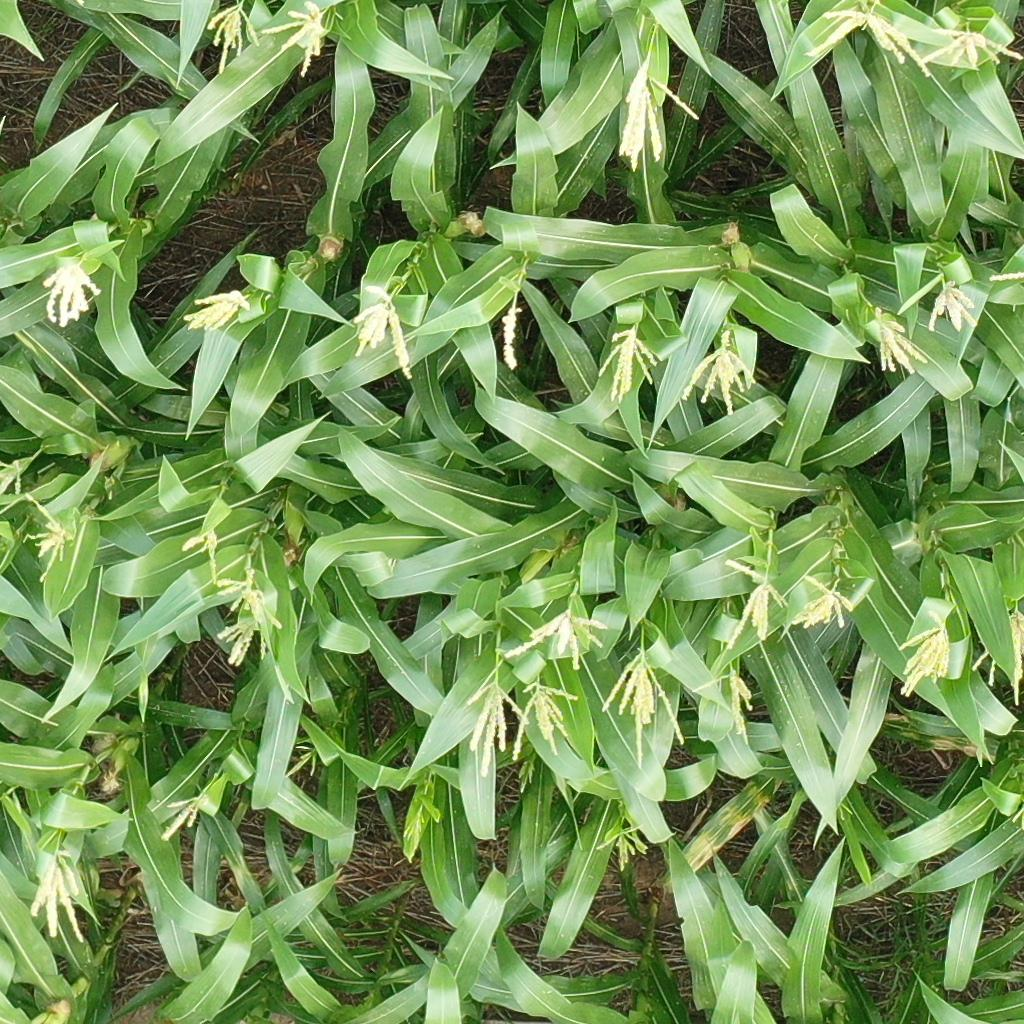Tassel: (613, 56, 699, 175), (602, 649, 687, 769), (804, 1, 931, 77), (501, 603, 609, 671), (345, 281, 418, 376), (720, 555, 789, 651), (682, 339, 762, 420), (27, 845, 88, 947), (215, 568, 278, 666), (467, 679, 527, 778), (511, 679, 580, 763), (261, 1, 335, 77), (922, 23, 1023, 77), (892, 611, 953, 699), (595, 328, 660, 403), (694, 671, 759, 746), (22, 494, 73, 585), (786, 568, 854, 632), (37, 268, 105, 328), (205, 3, 261, 73), (873, 307, 928, 377), (180, 288, 252, 333), (597, 821, 651, 874), (177, 520, 220, 586), (926, 282, 979, 332), (1000, 602, 1024, 707), (157, 792, 197, 841), (502, 288, 527, 366), (970, 642, 1001, 689), (283, 743, 320, 782), (401, 806, 427, 855), (1, 459, 24, 501)
